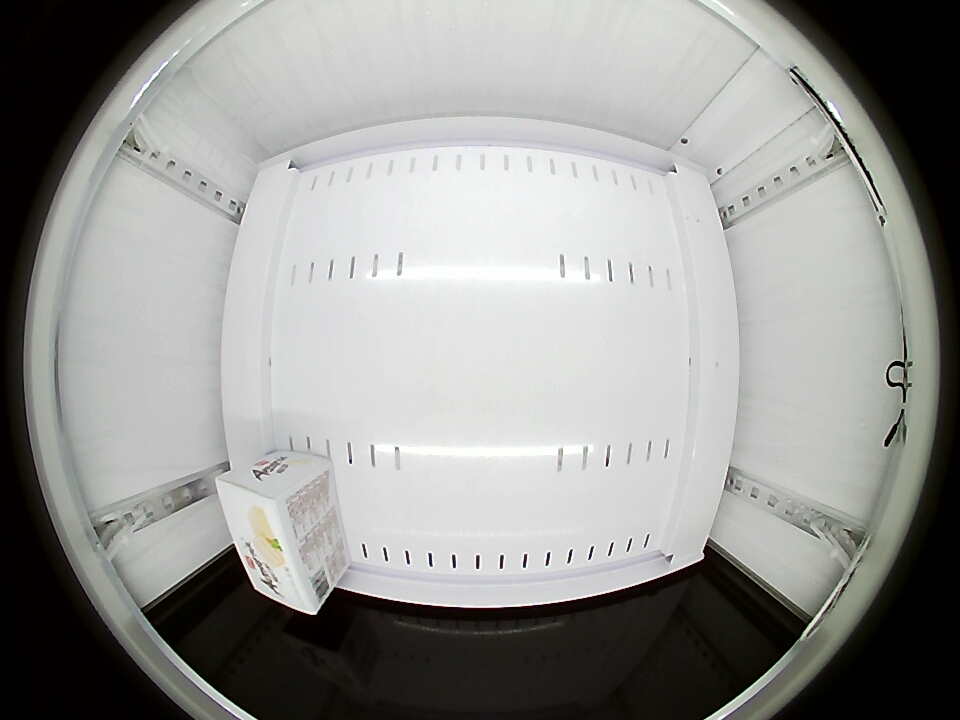meiniye: (216, 466, 327, 616)
